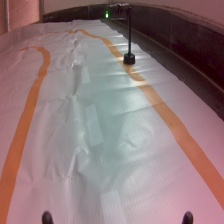green: (104, 3, 136, 68)
